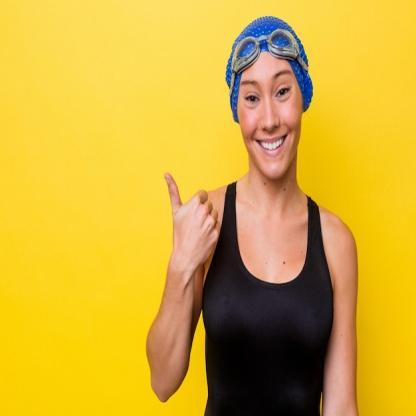thumb_up: (156, 169, 223, 272)
